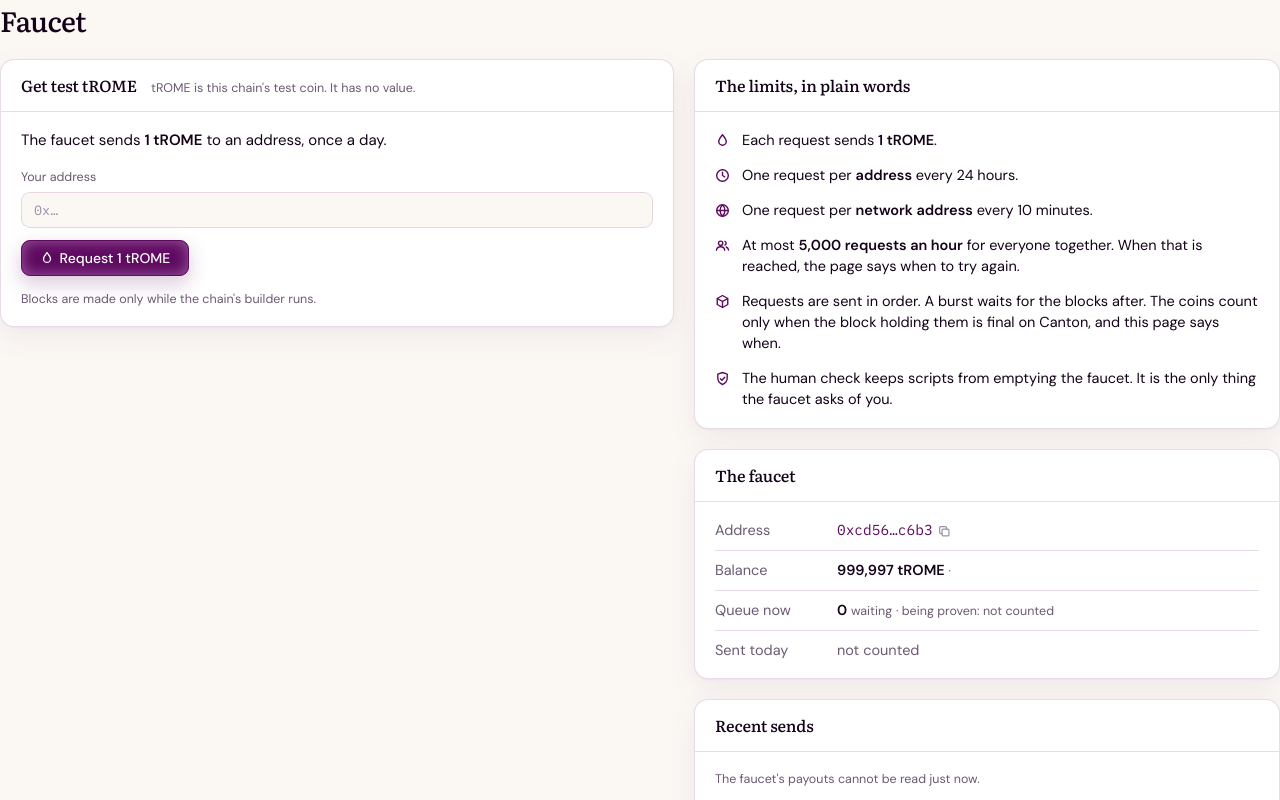
Test case: the human check › draws the widget again when the page is left and come back to, and after a request has used the token
The width and height of the screenshot is (1280, 800).
In the field labelled "Your address": (337, 210) [21,192,653,228], type "0x5a04de5c5ebd085f5e3b3ec791ab5cdc8e2b56f0"
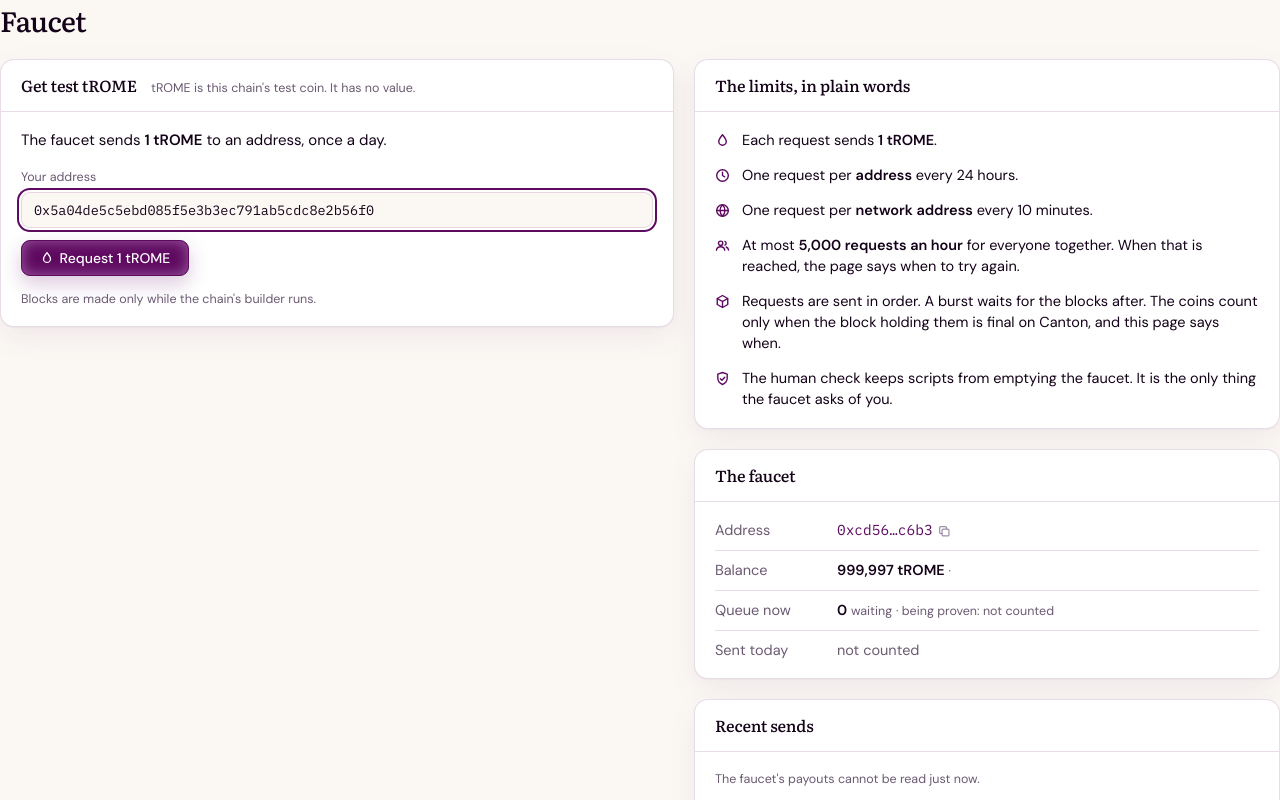
Click the button "Request 1 tROME": (105, 258) [21,240,189,276]
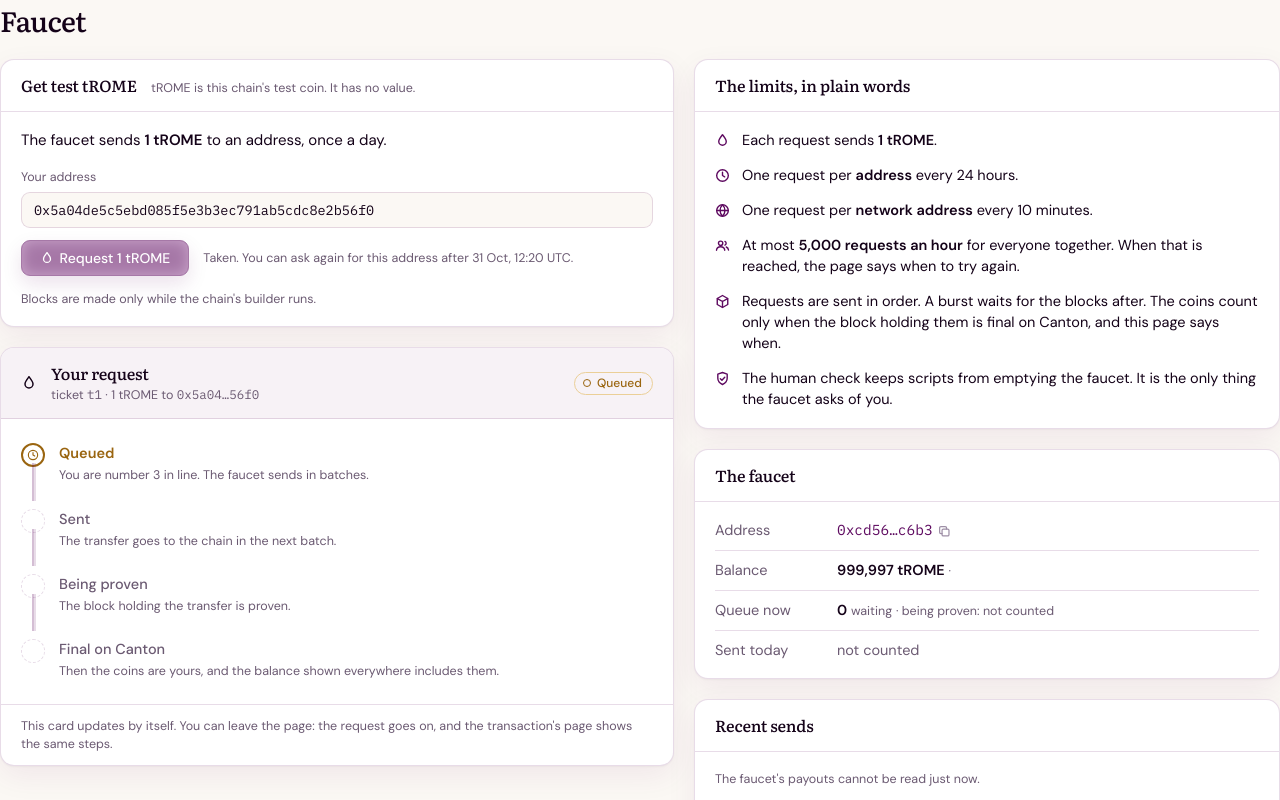
Check: the message is shown, box [21,443,499,679]
